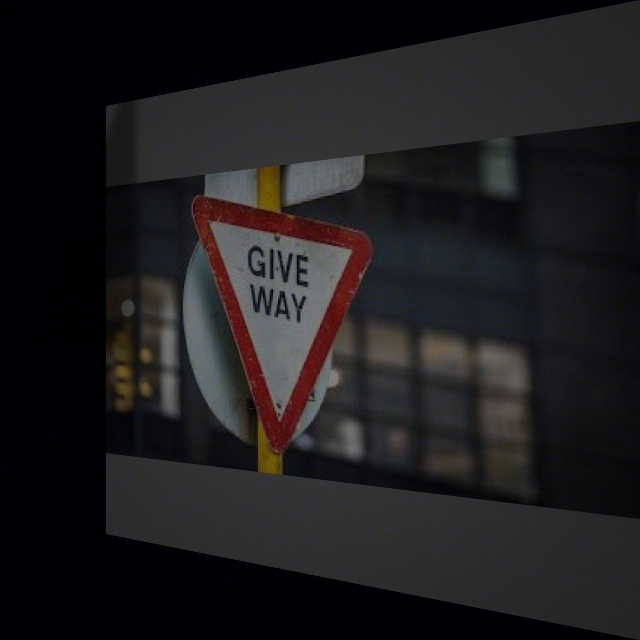Give_Way: (197, 179, 371, 464)
